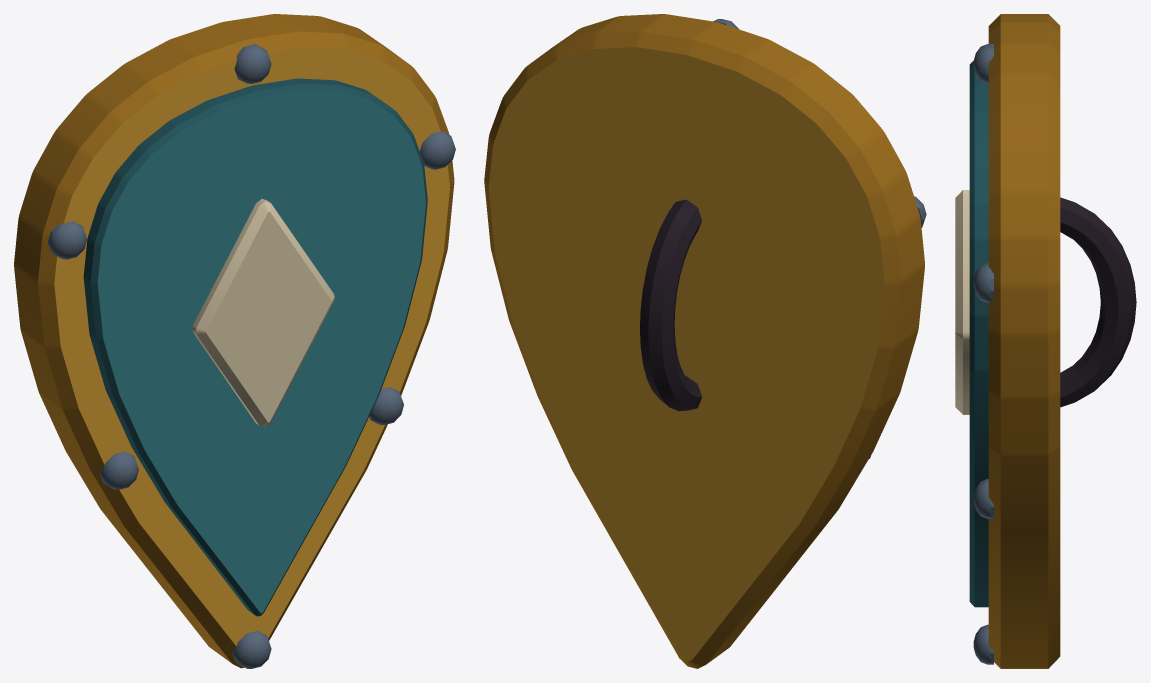
The model's file is KiteShield_22.glb.
The picture shows the model from 3 angles, left to right: view 1: azimuth 30°, elevation 25°; view 2: azimuth 150°, elevation 25°; view 3: azimuth 270°, elevation 25°; orthographic projection.
Parts seen in each view (by area): view 1: KiteShield_22; view 2: KiteShield_22; view 3: KiteShield_22.
Part boxes in pixels (x1,y1,x2,y2): KiteShield_22: (14,14,455,668); KiteShield_22: (484,14,926,668); KiteShield_22: (955,14,1136,668).
Size of the model in its own units: 2 by 2.88 by 0.76.
